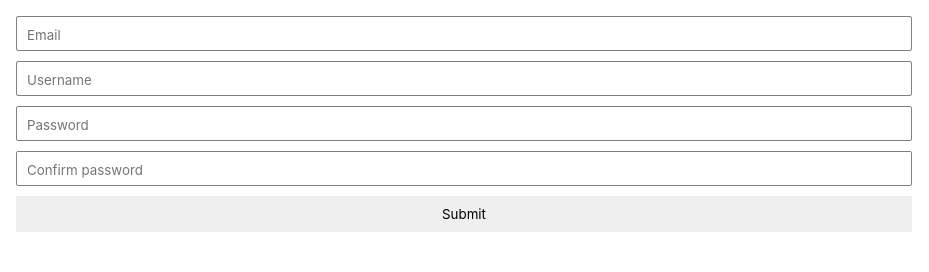
Scenario: error handling › should show error message on invalid inputs › should show error message on invalid email
Type "testing" into the field with placeholder "Email".
click(464, 34); type("testing")  # box [16,16,912,51]
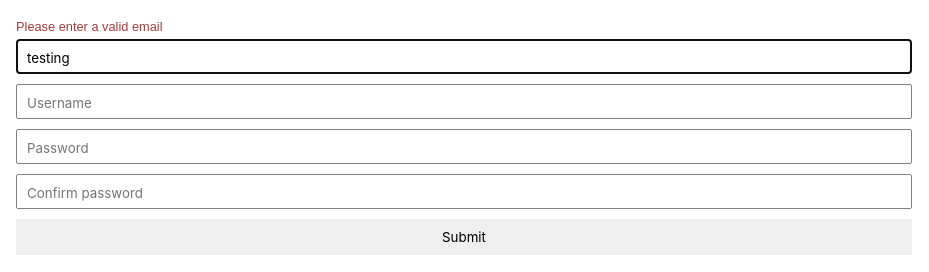
Result: the text "Please enter a valid email" is shown at [16,19,162,34]
